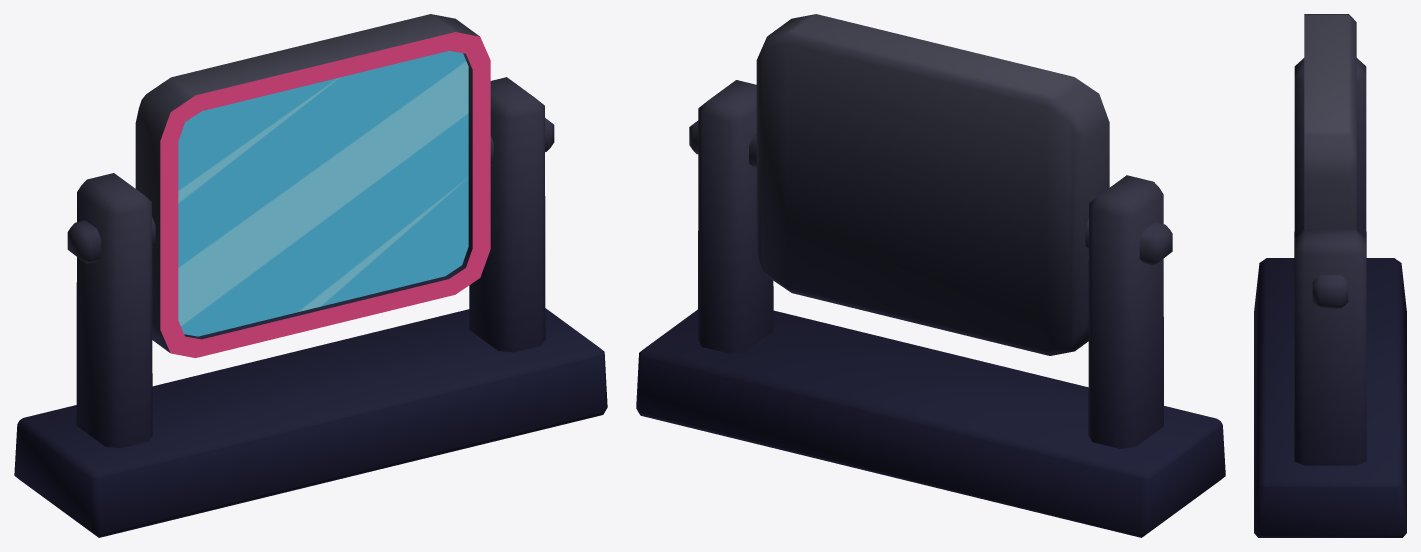
File: Mirror_01.fbx
3 views of the same model, side by side, from view 1: azimuth 30°, elevation 25°; view 2: azimuth 150°, elevation 25°; view 3: azimuth 270°, elevation 25° (orthographic). The views are drawn at different scales.
Visible parts, largest first — view 1: Mirror_01; view 2: Mirror_01; view 3: Mirror_01.
Boxes of the visible parts, bbox=[...] form: Mirror_01: bbox=[14, 14, 607, 537]; Mirror_01: bbox=[636, 14, 1225, 537]; Mirror_01: bbox=[1254, 14, 1406, 537].
Size of the model in its own units: 0.169 by 0.1236 by 0.0482.
1 material, 1 textured.
